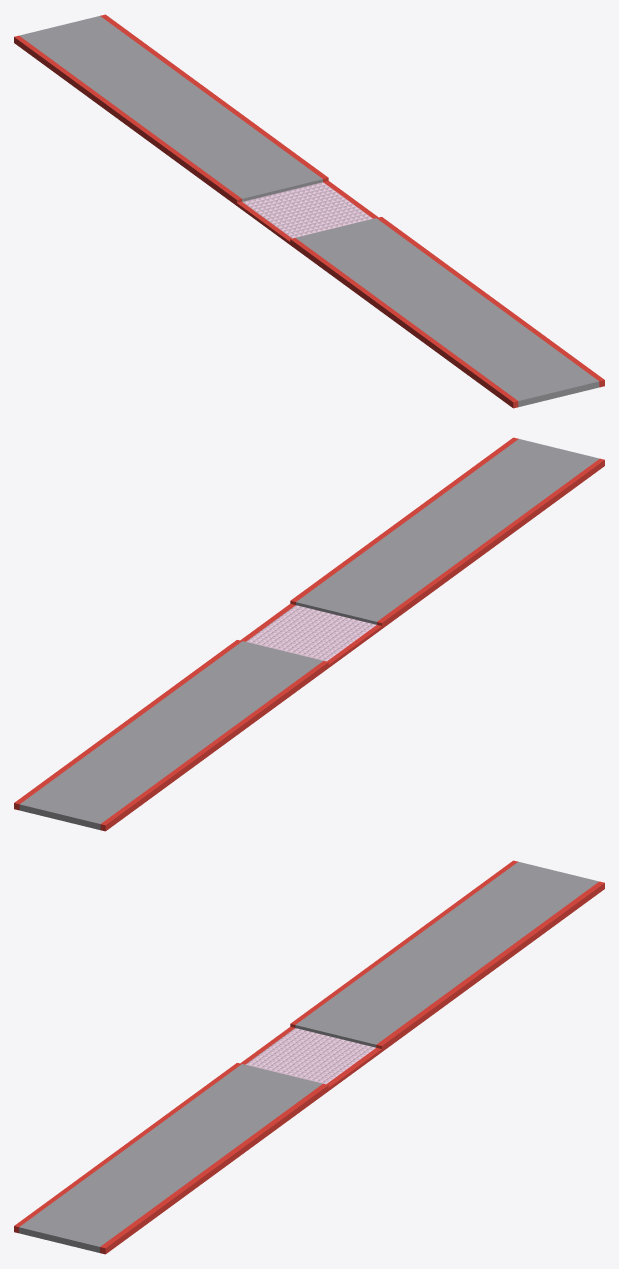
File: pavement.glb
3 renders of one model, top to bottom at view 1: azimuth 30°, elevation 25°; view 2: azimuth 150°, elevation 25°; view 3: azimuth 330°, elevation 25°, orthographic.
Parts seen in each view (by area): view 1: Plane; view 2: Plane; view 3: Plane.
Part boxes in pixels (left/top/right/bottom): Plane: left=14, top=14, right=604, bottom=408; Plane: left=14, top=437, right=604, bottom=831; Plane: left=14, top=860, right=604, bottom=1254.
Bounding box in the file's own units: 1.17 × 0.0748 × 11.04.
